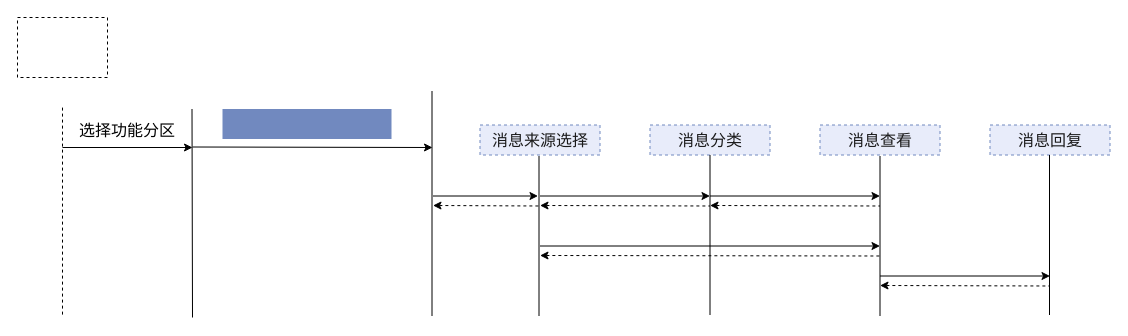
This 1128x336 diagram has some shape labels left out. Each missing label, with the centre of its shape:
查看平台消息、私信: (x=306, y=123)
用户登录: (x=62, y=47)
